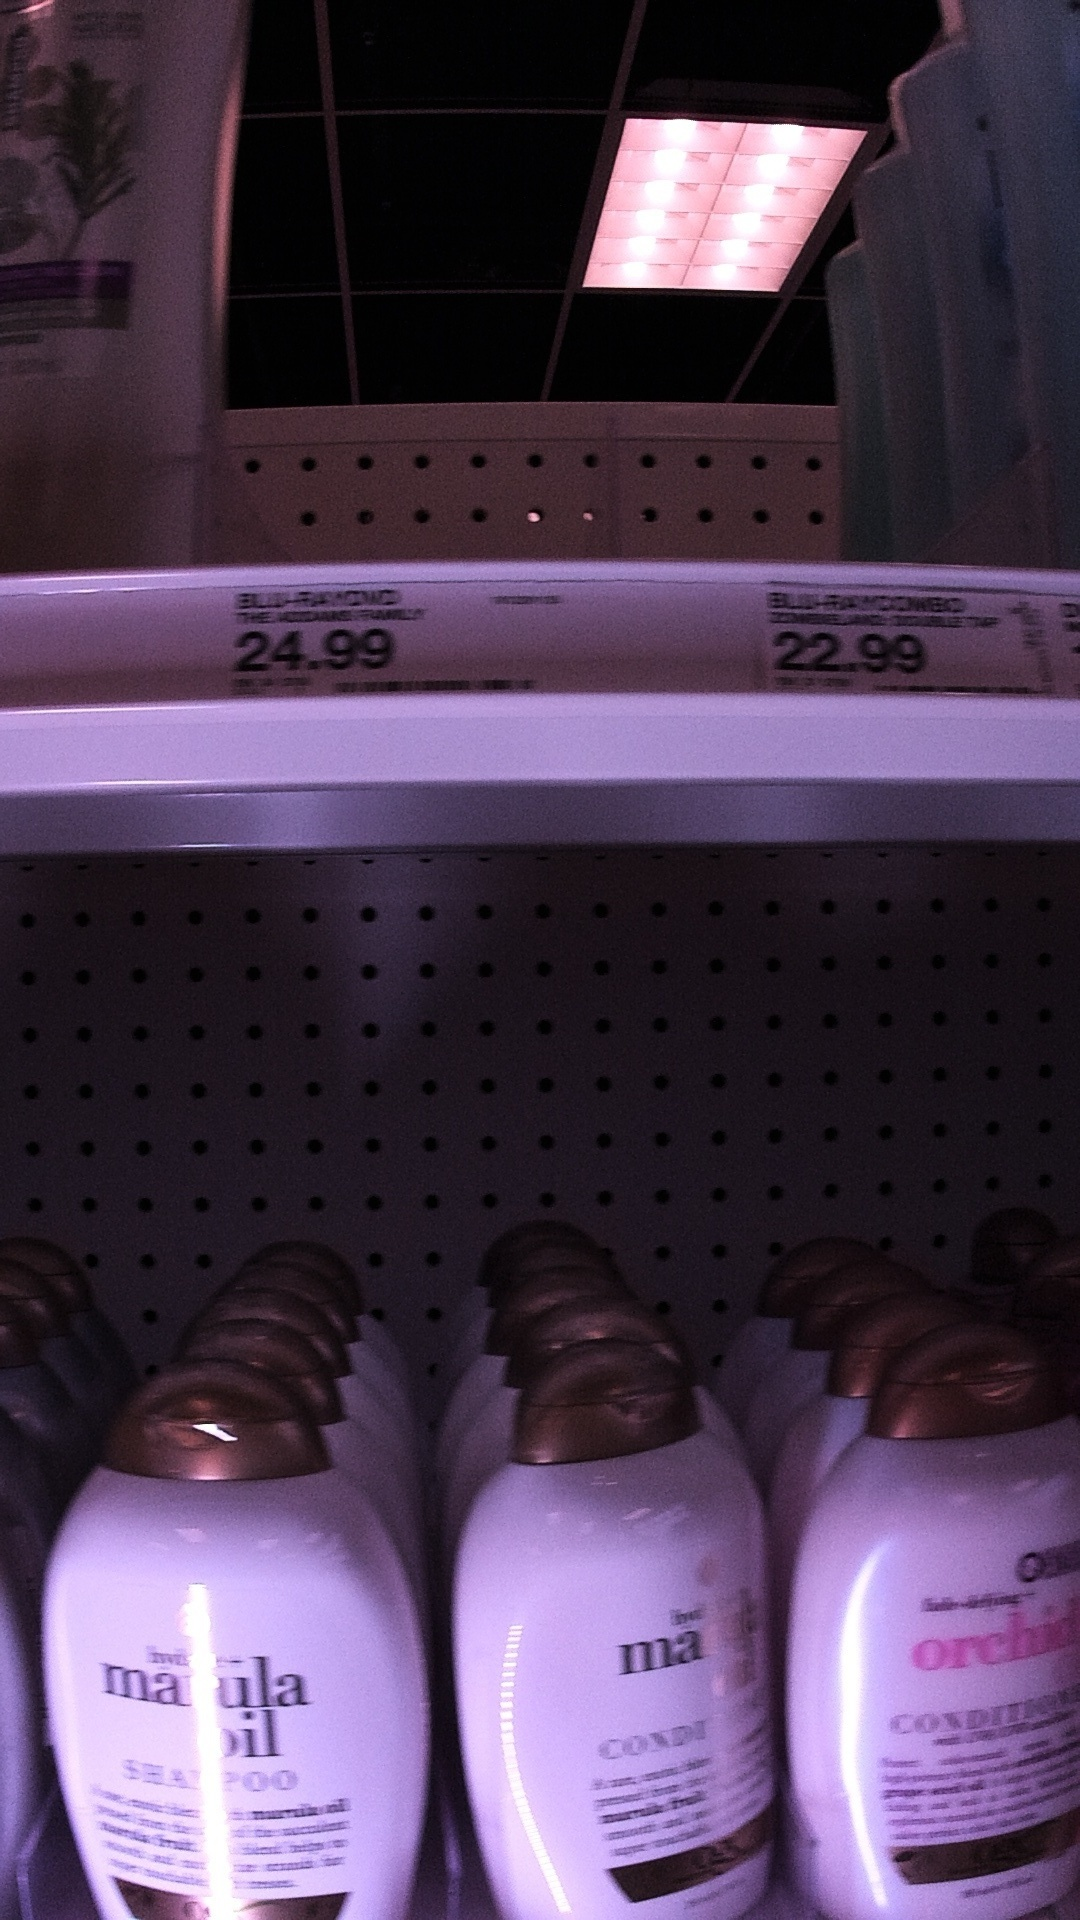ptag: (214, 578, 555, 702), (758, 584, 1058, 702)
